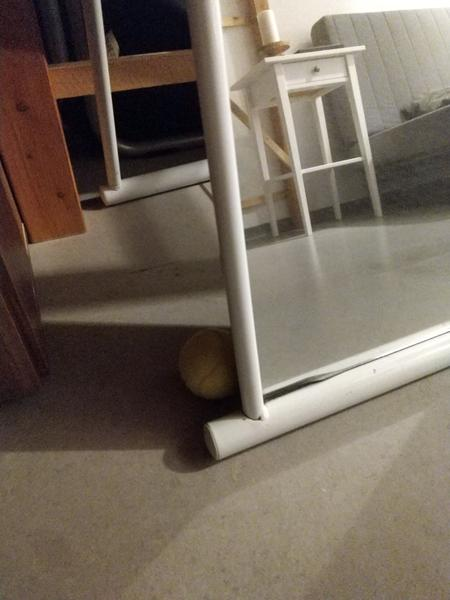Tennisball: (173, 325, 238, 404)
